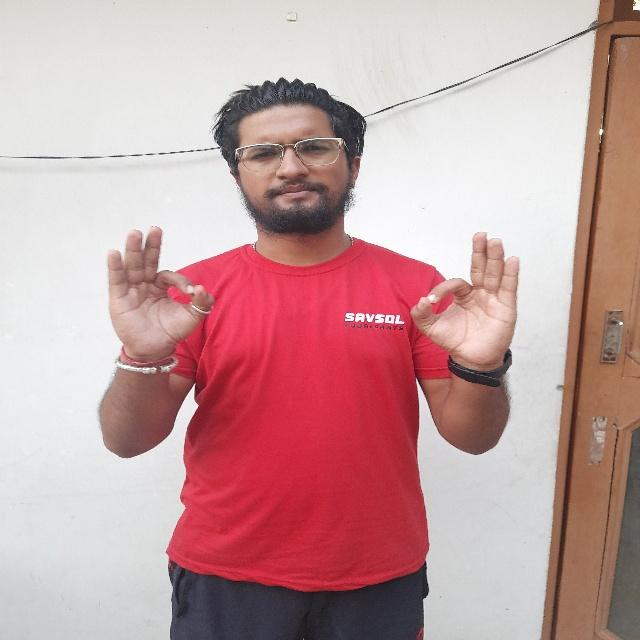Okay: (404, 217, 527, 380), (91, 217, 218, 373)
